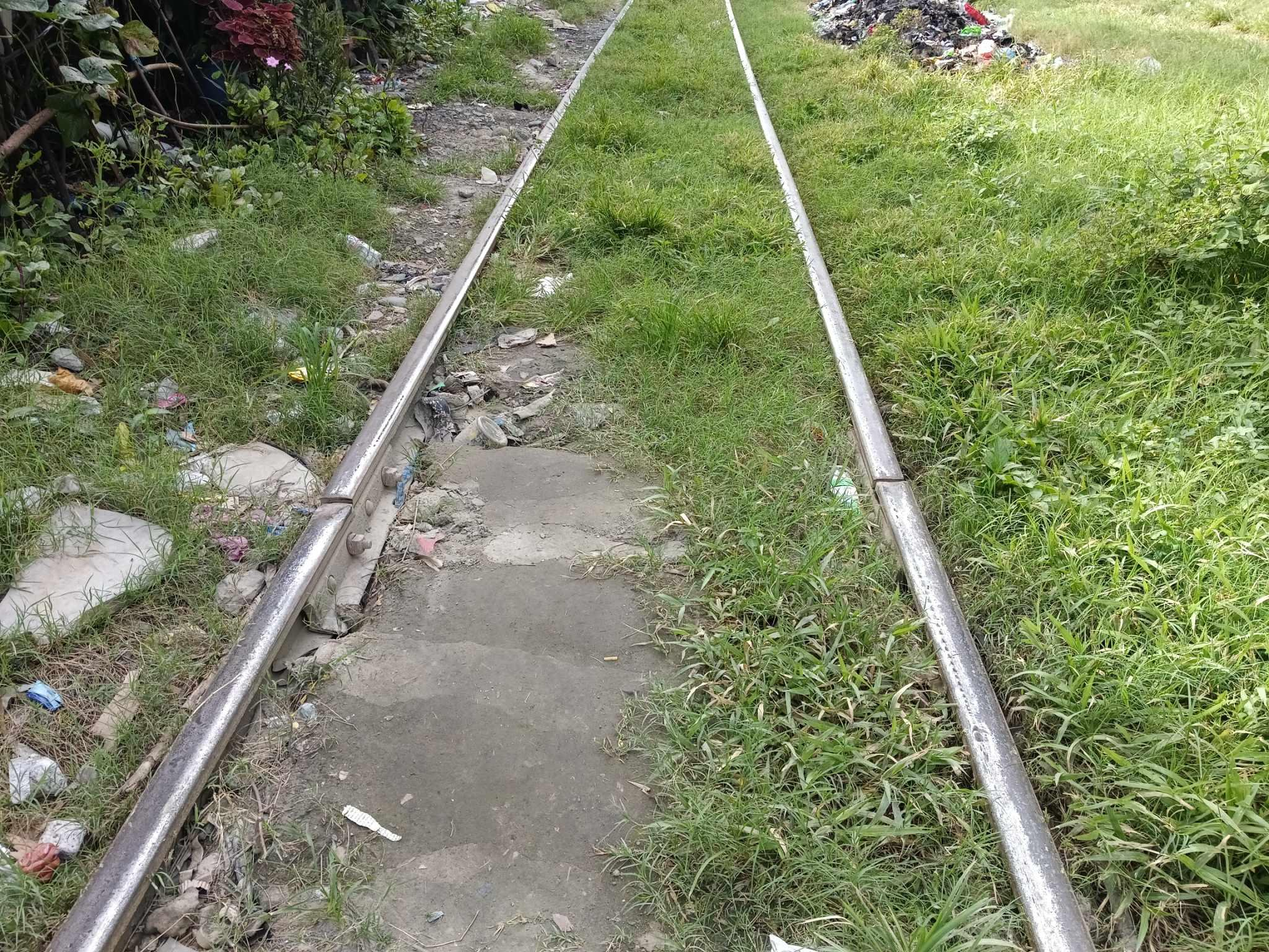railway-gap: (844, 445, 936, 520), (297, 472, 378, 536)
